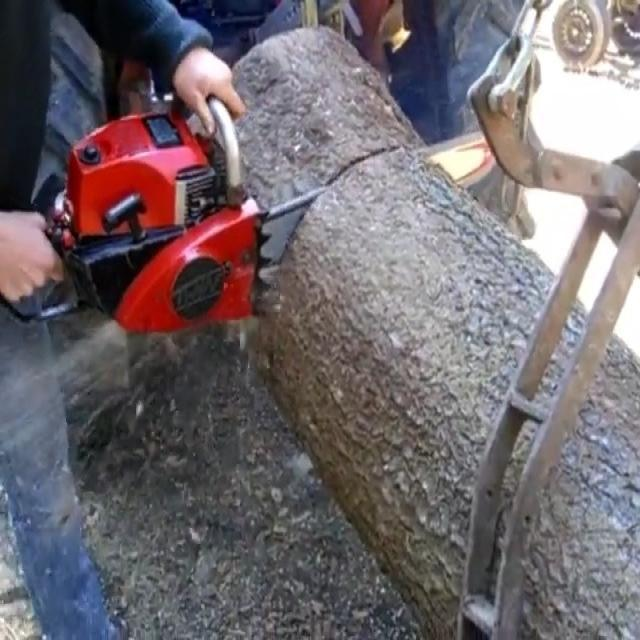Chainsaw: (4, 72, 504, 328)
